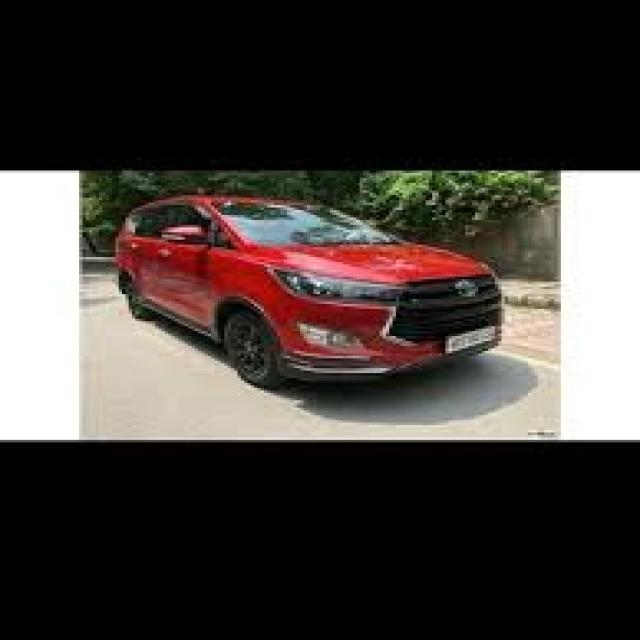light_vehicle: (115, 196, 506, 388)
